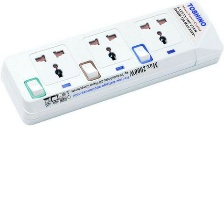three_eye_plug: (0, 0, 224, 126)
